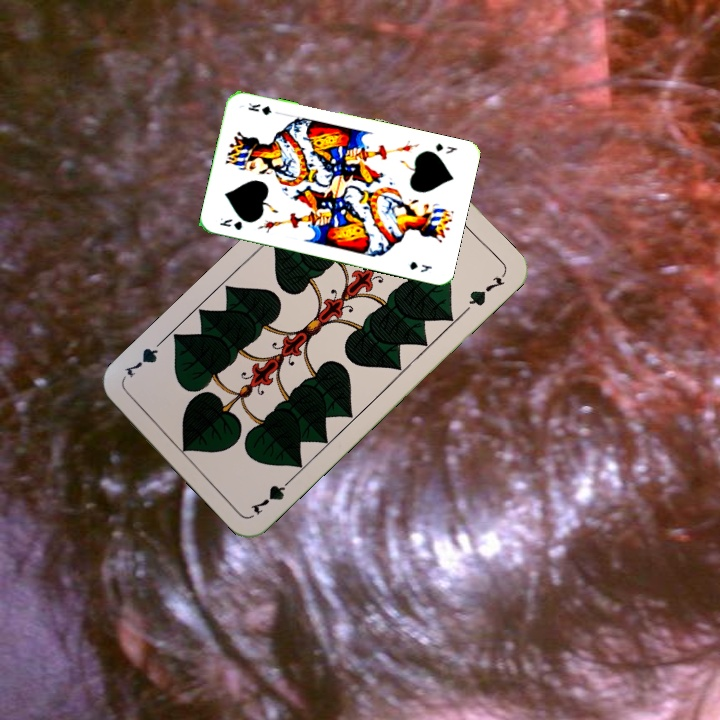G7: (246, 472, 297, 517)
GK: (216, 214, 245, 233), (431, 139, 460, 156)
